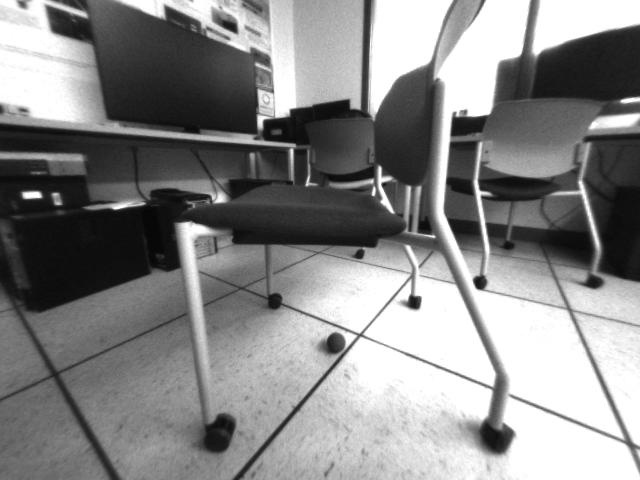dogtoy: (320, 328, 357, 360)
